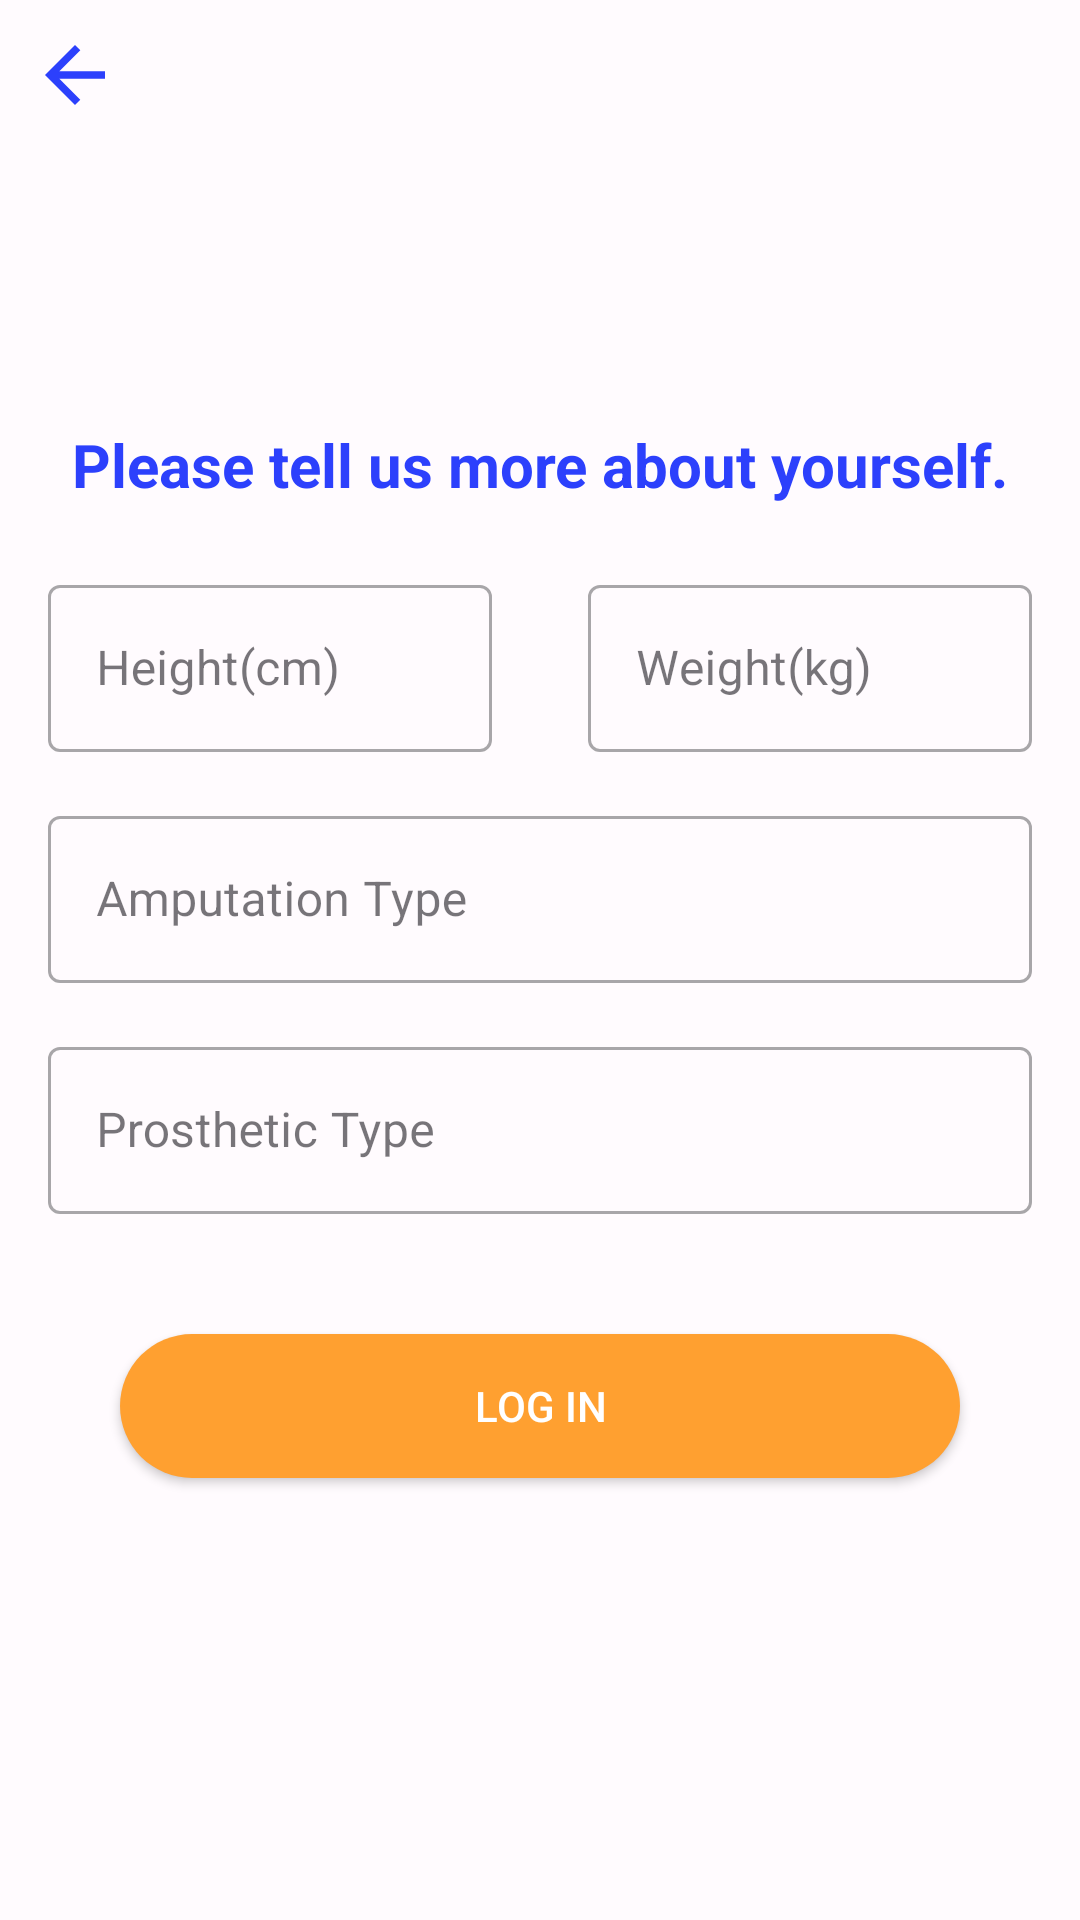

Icons on this 1080×1920 Android screen, each with the point to tap as point (x, y):
back: point (75, 75)
